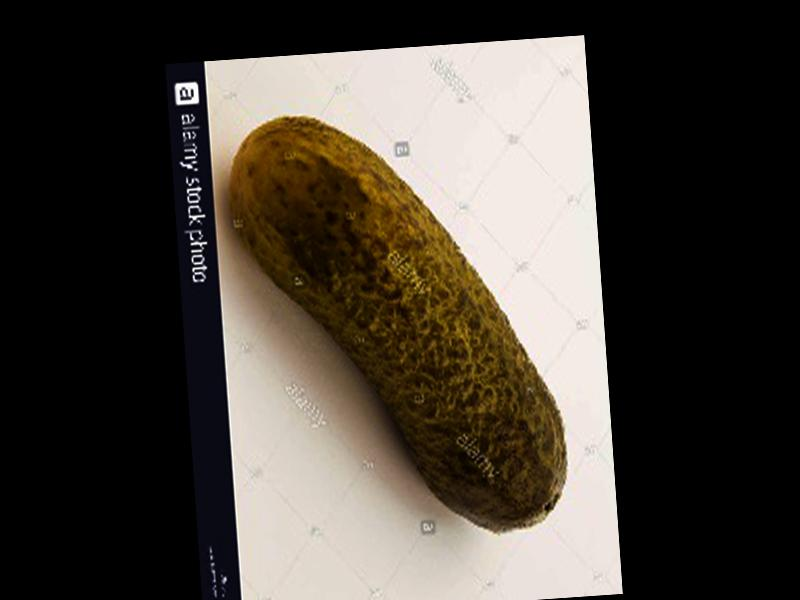Cucumber: (226, 97, 569, 547)
